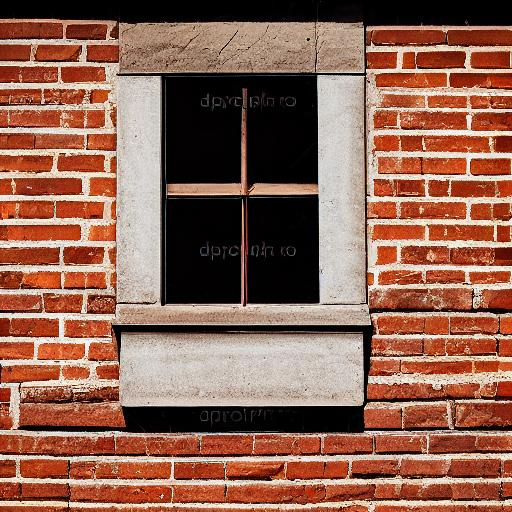Window: (113, 18, 378, 430)
